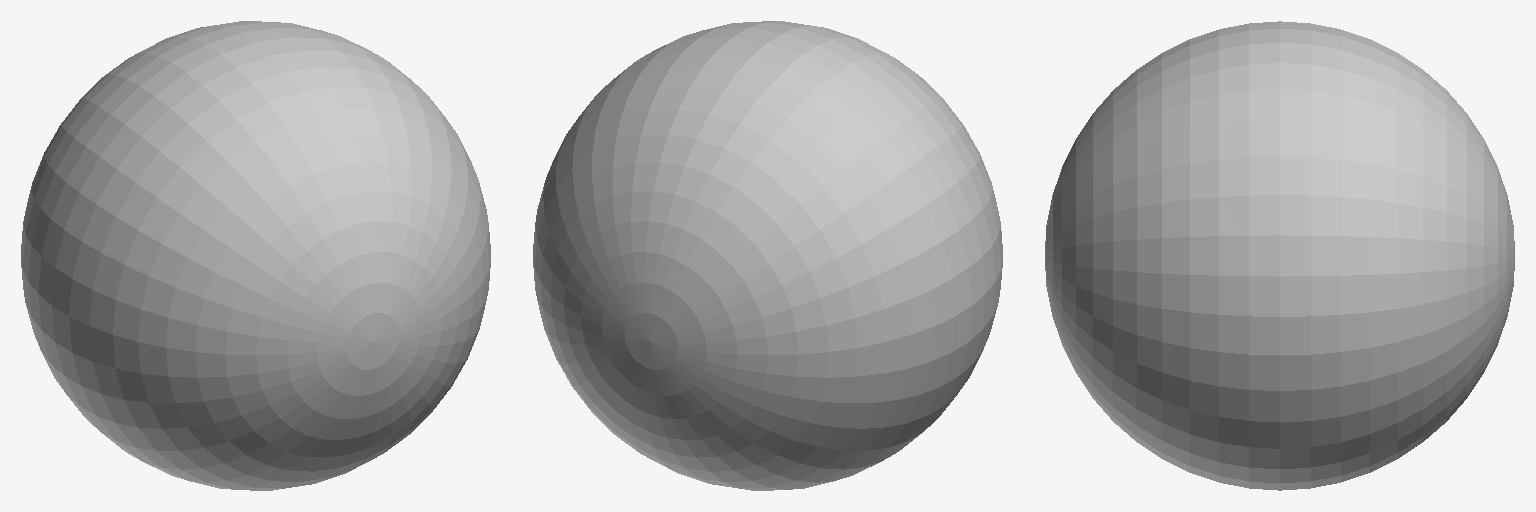
File: tennisball.obj
The picture shows the model from 3 angles: view 1: azimuth 30°, elevation 25°; view 2: azimuth 150°, elevation 25°; view 3: azimuth 270°, elevation 25°; orthographic projection.
Parts seen in each view (by area): view 1: TENNIS1, TENNISBA; view 2: TENNIS1, TENNISBA; view 3: TENNIS1, TENNISBA.
Part boxes in pixels (left/top/right/bottom): TENNIS1: left=21, top=21, right=490, bottom=490; TENNISBA: left=62, top=74, right=451, bottom=477; TENNIS1: left=533, top=21, right=1002, bottom=490; TENNISBA: left=574, top=74, right=929, bottom=455; TENNIS1: left=1045, top=21, right=1514, bottom=490; TENNISBA: left=1069, top=135, right=1490, bottom=477.
Size of the model in its own units: 0.0591 by 0.0591 by 0.0591.